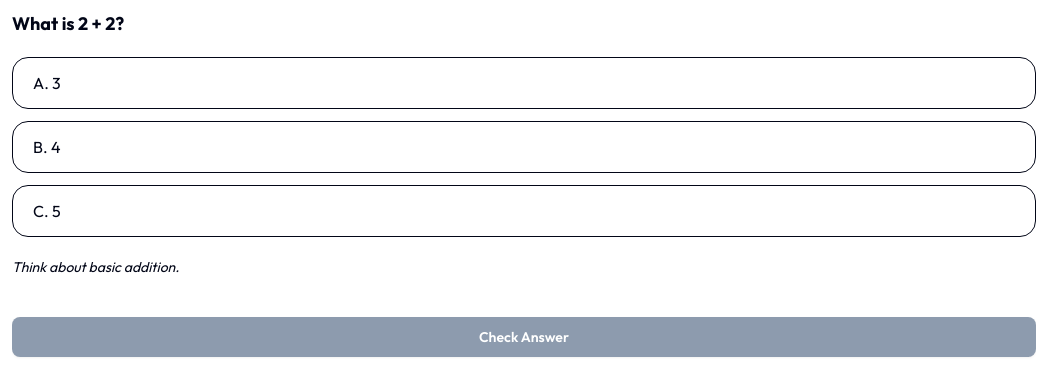
Test case: QuizInlineViewer — custom feedback › hides hint after answering
Click the button "B. 4".
click(38, 147)  # box [12,121,1036,173]
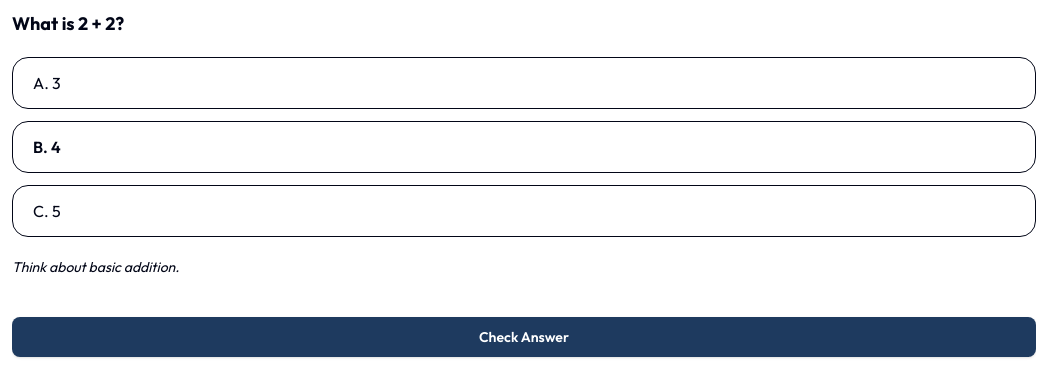
Click the button "Check Answer".
click(524, 337)  # box [12,317,1036,357]
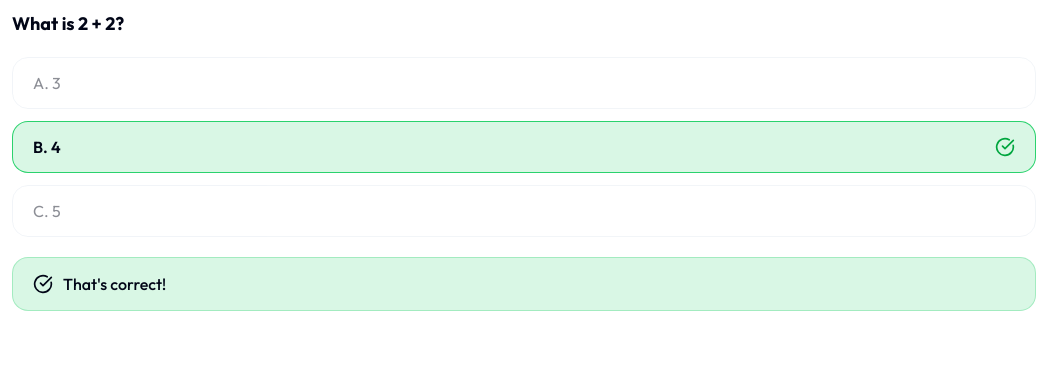
expect the text "Think about basic addition." is gone: met
